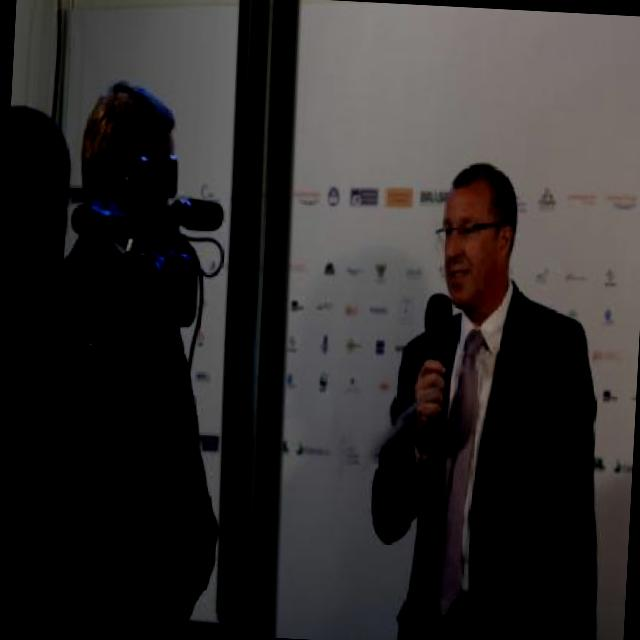Person: (44, 76, 246, 634), (0, 101, 191, 631), (396, 164, 605, 640)
